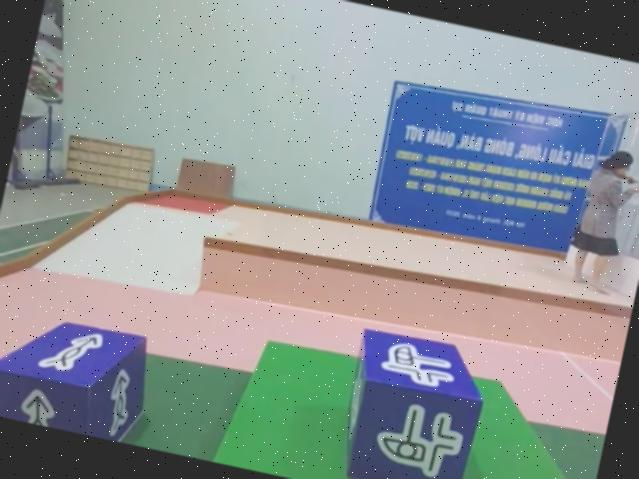R2 Real Blue: (328, 323, 491, 479), (0, 305, 154, 444)
